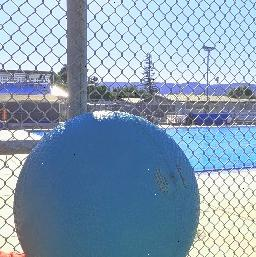algae: (9, 108, 200, 257)
